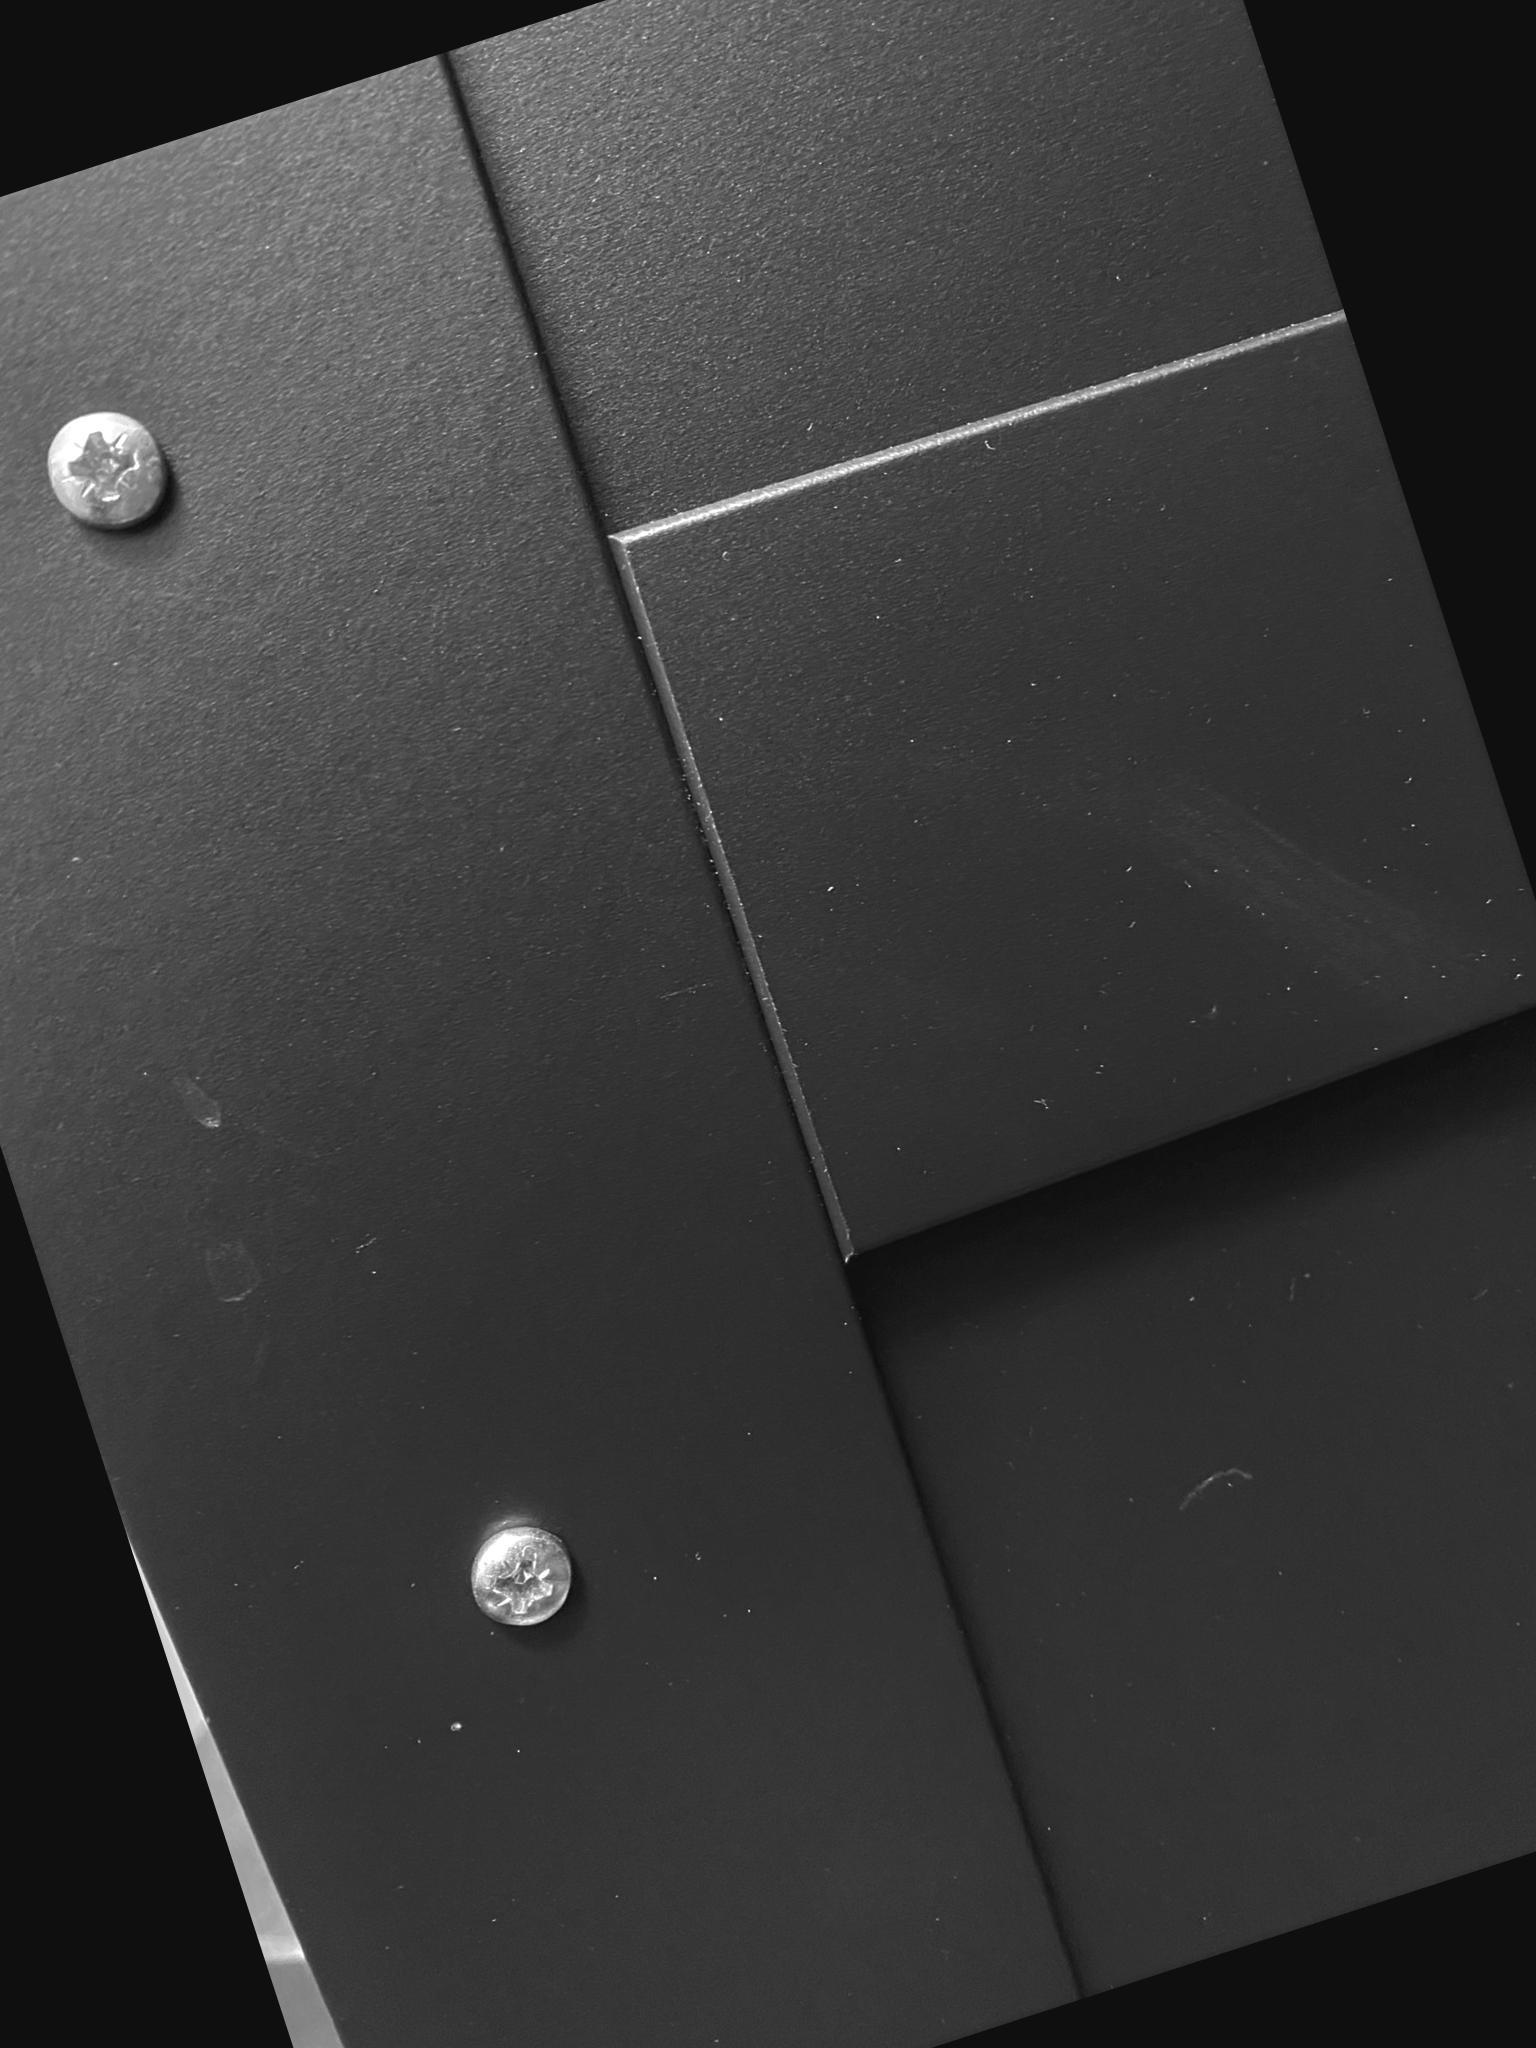screw: (32, 395, 181, 547), (455, 1516, 586, 1642)
